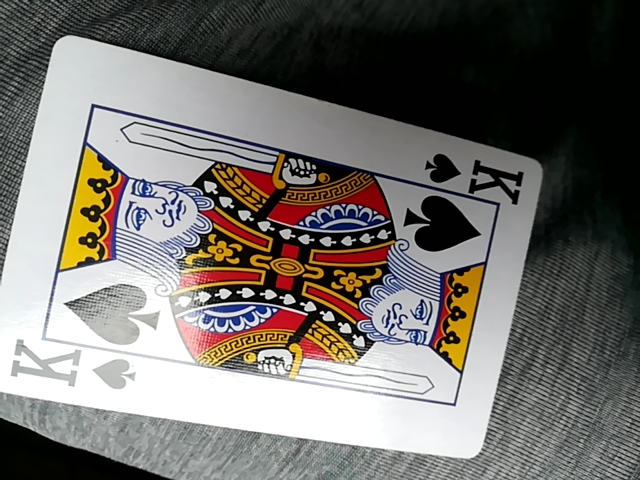ht k: (0, 35, 546, 463)
